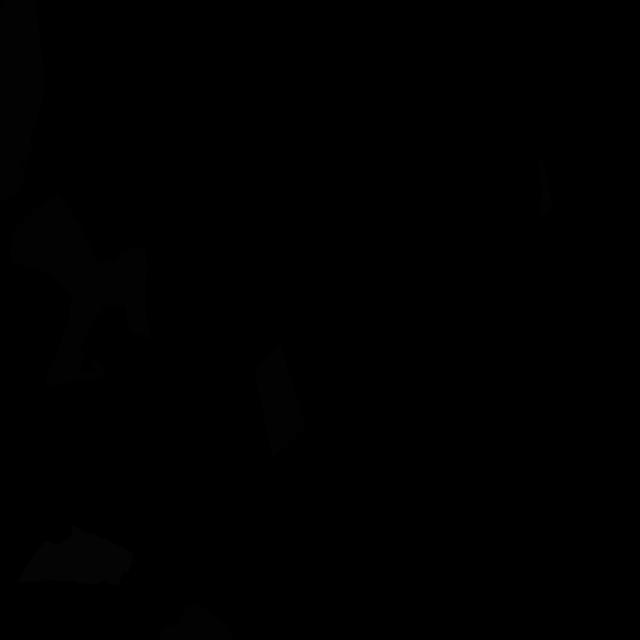cardboard: (11, 194, 150, 387), (0, 0, 44, 201), (254, 343, 306, 459), (158, 605, 234, 640), (539, 157, 554, 218)
soft_plastic: (17, 525, 134, 586)
